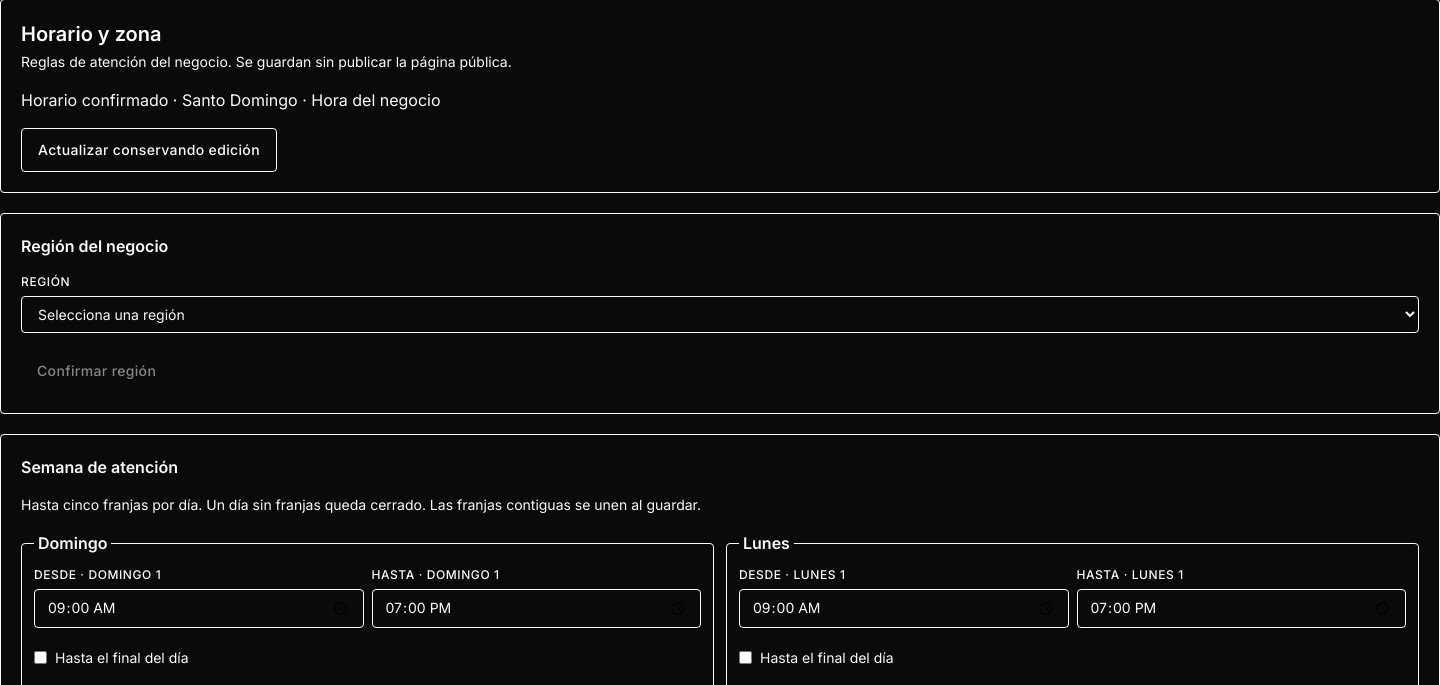
Scenario: Horario D14/C2 › conflicts prevent saving and show the actual interval in business time
This screenshot has width=1440, height=685.
Replace the text in the time field labelled "Hasta · Lunes 1" with "18:00": [1241, 608] box [1076, 589, 1406, 628]
(page scrolled)
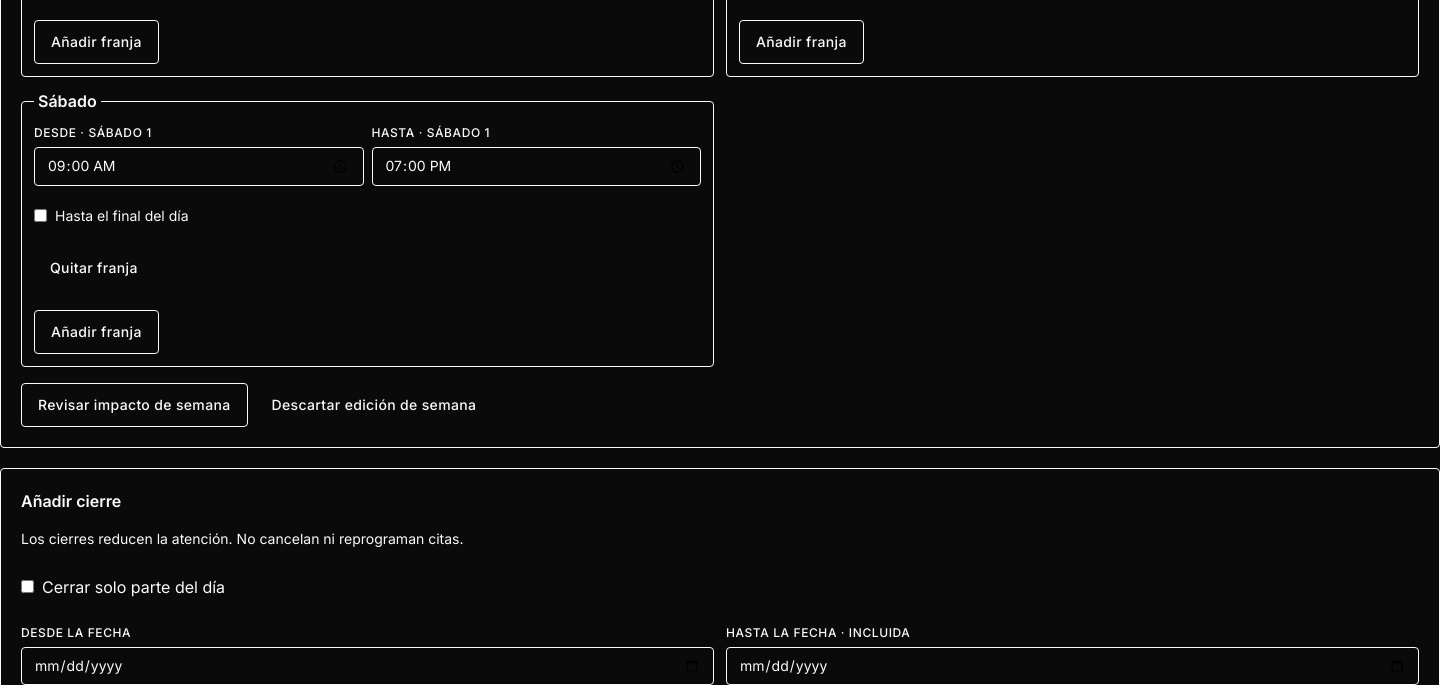
Click the button "Revisar impacto de semana": [134, 405] box [21, 383, 248, 427]
(page scrolled)
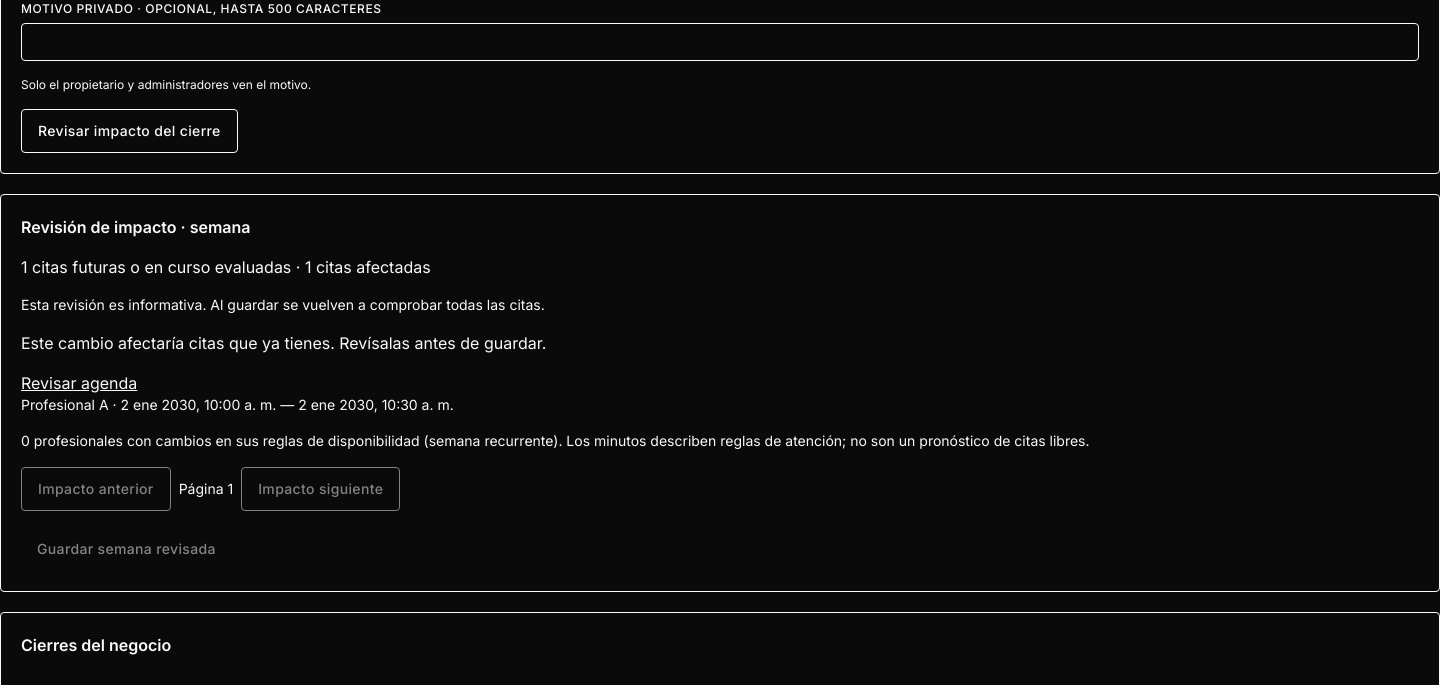
Expected: the button "Guardar semana revisada" is disabled, [21, 527, 232, 571]
Expected: the list item "Profesional A ·" shows "10:00", [120, 396, 276, 413]
